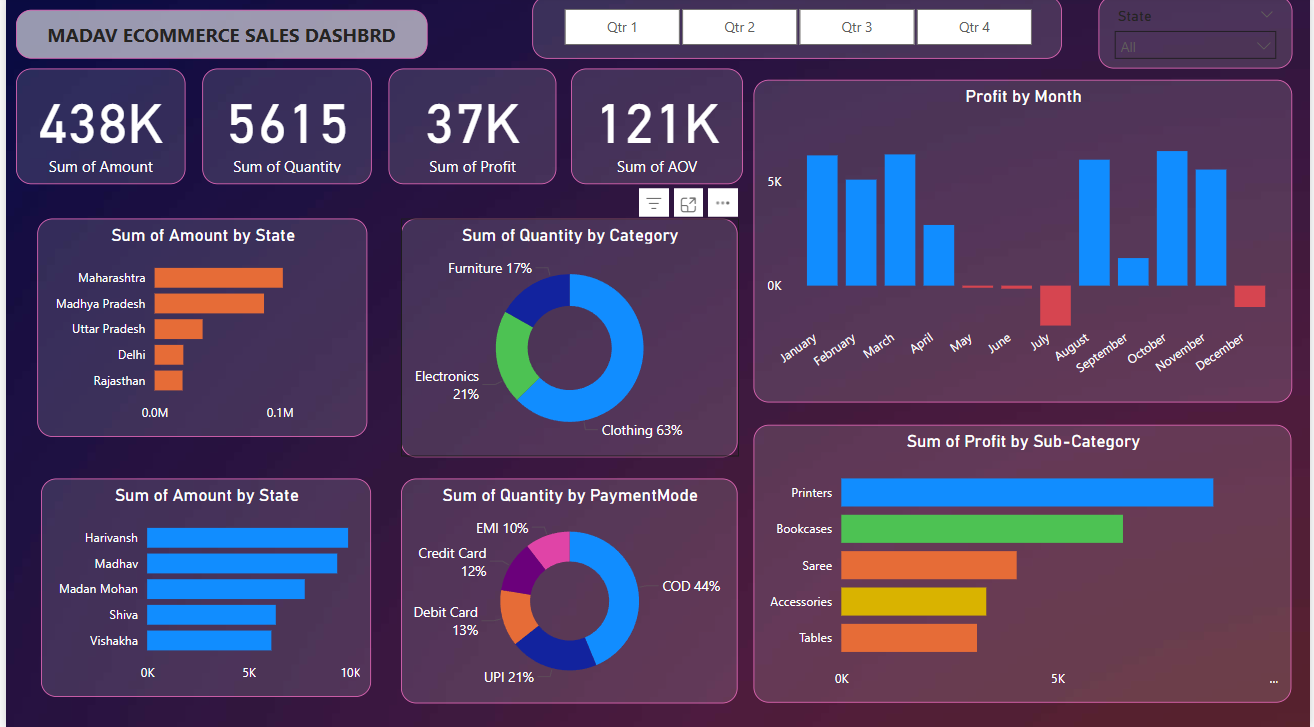

The page's visual inventory and layout, read from the dashboard file:
{"tool":"powerbi","page":{"name":"Page 1","canvas":[1280,720],"ordinal":0},"visuals":[{"type":"columnChart","title":" Profit by Month","fields":{"Y":["Details.Profit"],"Category":["Orders.Order Date.Variation.Date Hierarchy.Month"]},"box":[733.7,82.2,528.8,316.6],"z":0},{"type":"barChart","fields":{"Category":["Details.Sub-Category"],"Y":["Details.Profit"]},"box":[734.1,421.3,528.3,273.1],"z":1000},{"type":"textbox","box":[9.8,13.5,403.7,47.9],"z":2000},{"type":"donutChart","fields":{"Category":["Details.Category"],"Y":["Details.Quantity"]},"box":[388.3,218.2,330.7,234.6],"z":3000},{"type":"donutChart","fields":{"Y":["Details.Quantity"],"Category":["Details.PaymentMode"]},"box":[388.3,473.4,330.7,220.9],"z":4000},{"type":"card","fields":{"Values":["Details.Amount"]},"box":[9.6,71.4,166,113.9],"z":5000},{"type":"card","fields":{"Values":["Details.Quantity"]},"box":[192.1,71.4,166,113.9],"z":6000},{"type":"card","fields":{"Values":["Details.Profit"]},"box":[376,71.4,164.7,113.9],"z":7000},{"type":"card","fields":{"Values":["Details.AOV"]},"box":[554.4,71.4,168.8,113.9],"z":8000},{"type":"barChart","title":"Sum of Amount by State","fields":{"Category":["Orders.State"],"Y":["Details.Amount"]},"box":[30.2,218.4,324.2,214.3],"z":9000},{"type":"barChart","title":"Sum of Amount by State","fields":{"Category":["Orders.CustomerName"],"Y":["Details.Amount"]},"box":[34.3,473.9,324.2,214.3],"z":10000},{"type":"slicer","fields":{"Values":["Orders.Order Date.Variation.Date Hierarchy.Quarter"]},"box":[516.6,0,520.2,61.4],"z":11000},{"type":"slicer","fields":{"Values":["Orders.State"]},"box":[1072.4,0,190.2,71.2],"z":12000}]}

Visuals, with their boxes in screenshot pixels (x1, y1, x2, y2), scaled from the page's 1280x720 canvas onto the 1314x727 screenshot:
" Profit by Month" columnChart: x1=753 y1=83 x2=1296 y2=403
barChart - Details.Sub-Category x Details.Profit: x1=754 y1=425 x2=1296 y2=701
textbox: x1=10 y1=14 x2=424 y2=62
donutChart - Details.Category x Details.Quantity: x1=399 y1=220 x2=738 y2=457
donutChart - Details.Quantity x Details.PaymentMode: x1=399 y1=478 x2=738 y2=701
card - Details.Amount: x1=10 y1=72 x2=180 y2=187
card - Details.Quantity: x1=197 y1=72 x2=368 y2=187
card - Details.Profit: x1=386 y1=72 x2=555 y2=187
card - Details.AOV: x1=569 y1=72 x2=742 y2=187
"Sum of Amount by State" barChart: x1=31 y1=221 x2=364 y2=437
"Sum of Amount by State" barChart: x1=35 y1=479 x2=368 y2=695
slicer - Orders.Order Date.Variation.Date Hierarchy.Quarter: x1=530 y1=0 x2=1064 y2=62
slicer - Orders.State: x1=1101 y1=0 x2=1296 y2=72
